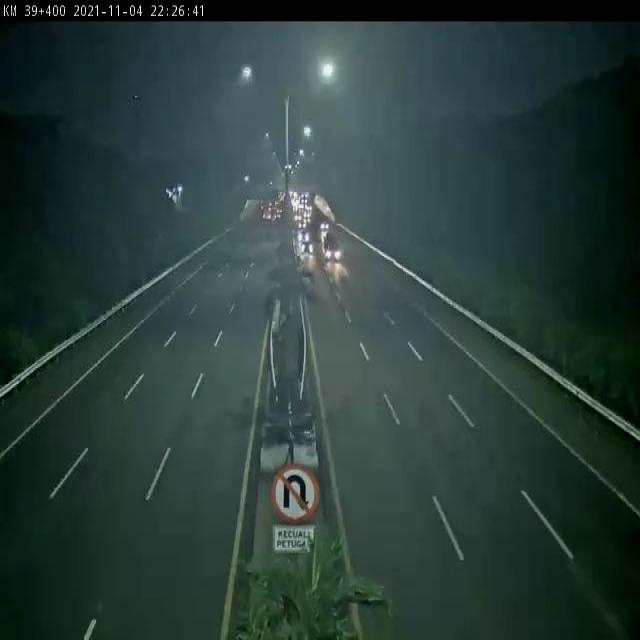Car: (317, 230, 345, 266)
